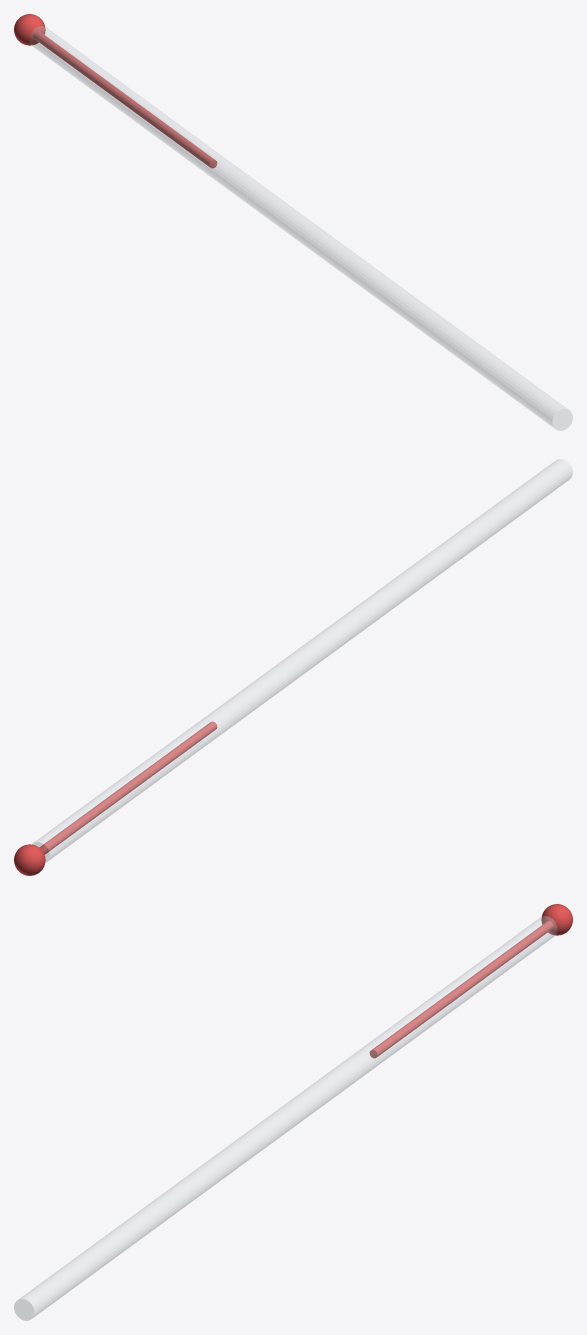
3 views of the same model, one above another, from view 1: azimuth 30°, elevation 25°; view 2: azimuth 150°, elevation 25°; view 3: azimuth 330°, elevation 25° (orthographic).
Parts seen in each view (by area): view 1: g0, g2, g1; view 2: g0, g2, g1; view 3: g0, g2, g1.
Part boxes in pixels (x1=…): g0: x1=29, y1=26, x2=572, y2=430; g2: x1=33, y1=31, x2=217, y2=168; g1: x1=14, y1=14, x2=45, y2=45; g0: x1=32, y1=459, x2=572, y2=862; g2: x1=39, y1=721, x2=217, y2=854; g1: x1=14, y1=844, x2=45, y2=875; g0: x1=14, y1=916, x2=557, y2=1320; g2: x1=369, y1=921, x2=553, y2=1058; g1: x1=541, y1=904, x2=572, y2=935.
Bounding box in the file's own units: 0.008 × 0.008 × 0.274.
